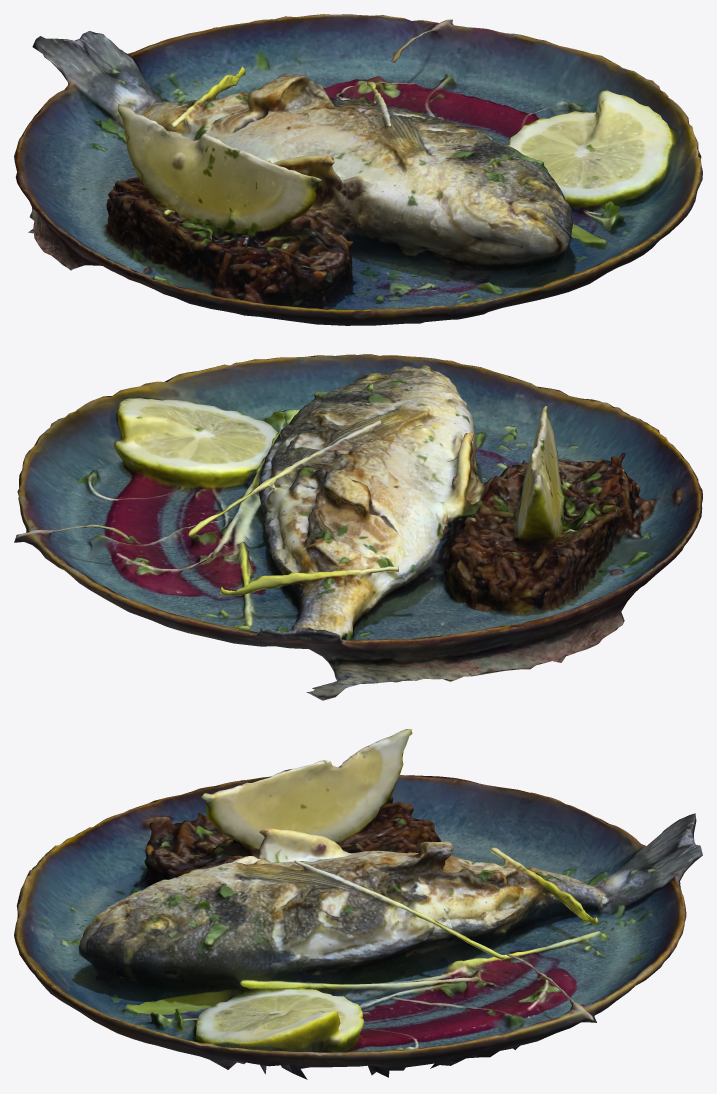
File: dorade.ar.glb
3 views of the same model, one above another, from view 1: azimuth 30°, elevation 25°; view 2: azimuth 150°, elevation 25°; view 3: azimuth 270°, elevation 25° (orthographic).
Parts seen in each view (by area): view 1: /ObjectCapture/Geometry/Mesh; view 2: /ObjectCapture/Geometry/Mesh; view 3: /ObjectCapture/Geometry/Mesh.
Boxes of the visible parts, x1,y1,x2,y2 form: /ObjectCapture/Geometry/Mesh: [14, 14, 702, 325]; /ObjectCapture/Geometry/Mesh: [14, 354, 702, 700]; /ObjectCapture/Geometry/Mesh: [14, 729, 702, 1079].
Size of the model in its own units: 0.2721 by 0.0602 by 0.2764.
Materials: 1 (1 with a texture image).
